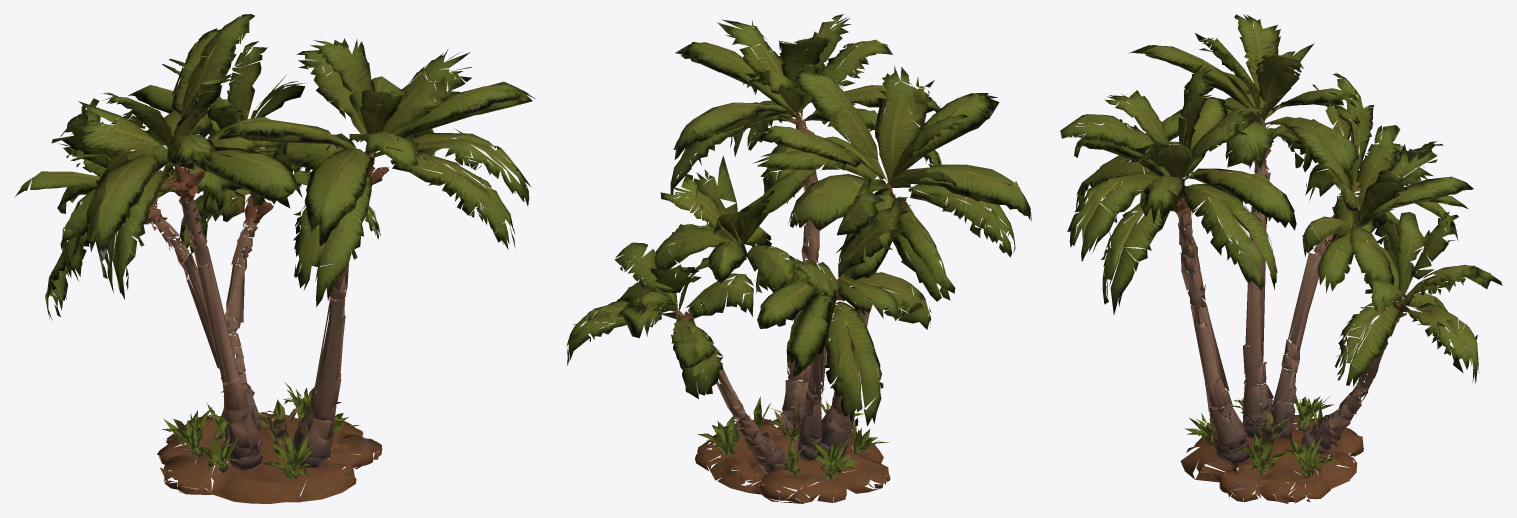
Rendered from jun_leaning_palm_cluster_LOD1.glb.
3 views of the same model, side by side, from view 1: azimuth 30°, elevation 25°; view 2: azimuth 150°, elevation 25°; view 3: azimuth 270°, elevation 25° (orthographic). The views are drawn at different scales.
Visible parts, largest first — view 1: tripo_node_82022841-fae1-4120-8960-4bbcf65c6de9; view 2: tripo_node_82022841-fae1-4120-8960-4bbcf65c6de9; view 3: tripo_node_82022841-fae1-4120-8960-4bbcf65c6de9.
Boxes of the visible parts, box(x1,y1,x2,y2) form: tripo_node_82022841-fae1-4120-8960-4bbcf65c6de9: box(15, 14, 536, 503); tripo_node_82022841-fae1-4120-8960-4bbcf65c6de9: box(566, 14, 1031, 503); tripo_node_82022841-fae1-4120-8960-4bbcf65c6de9: box(1060, 14, 1502, 503).
Size of the model in its own units: 0.9824 by 0.998 by 0.9979.
1 material, 1 textured.
